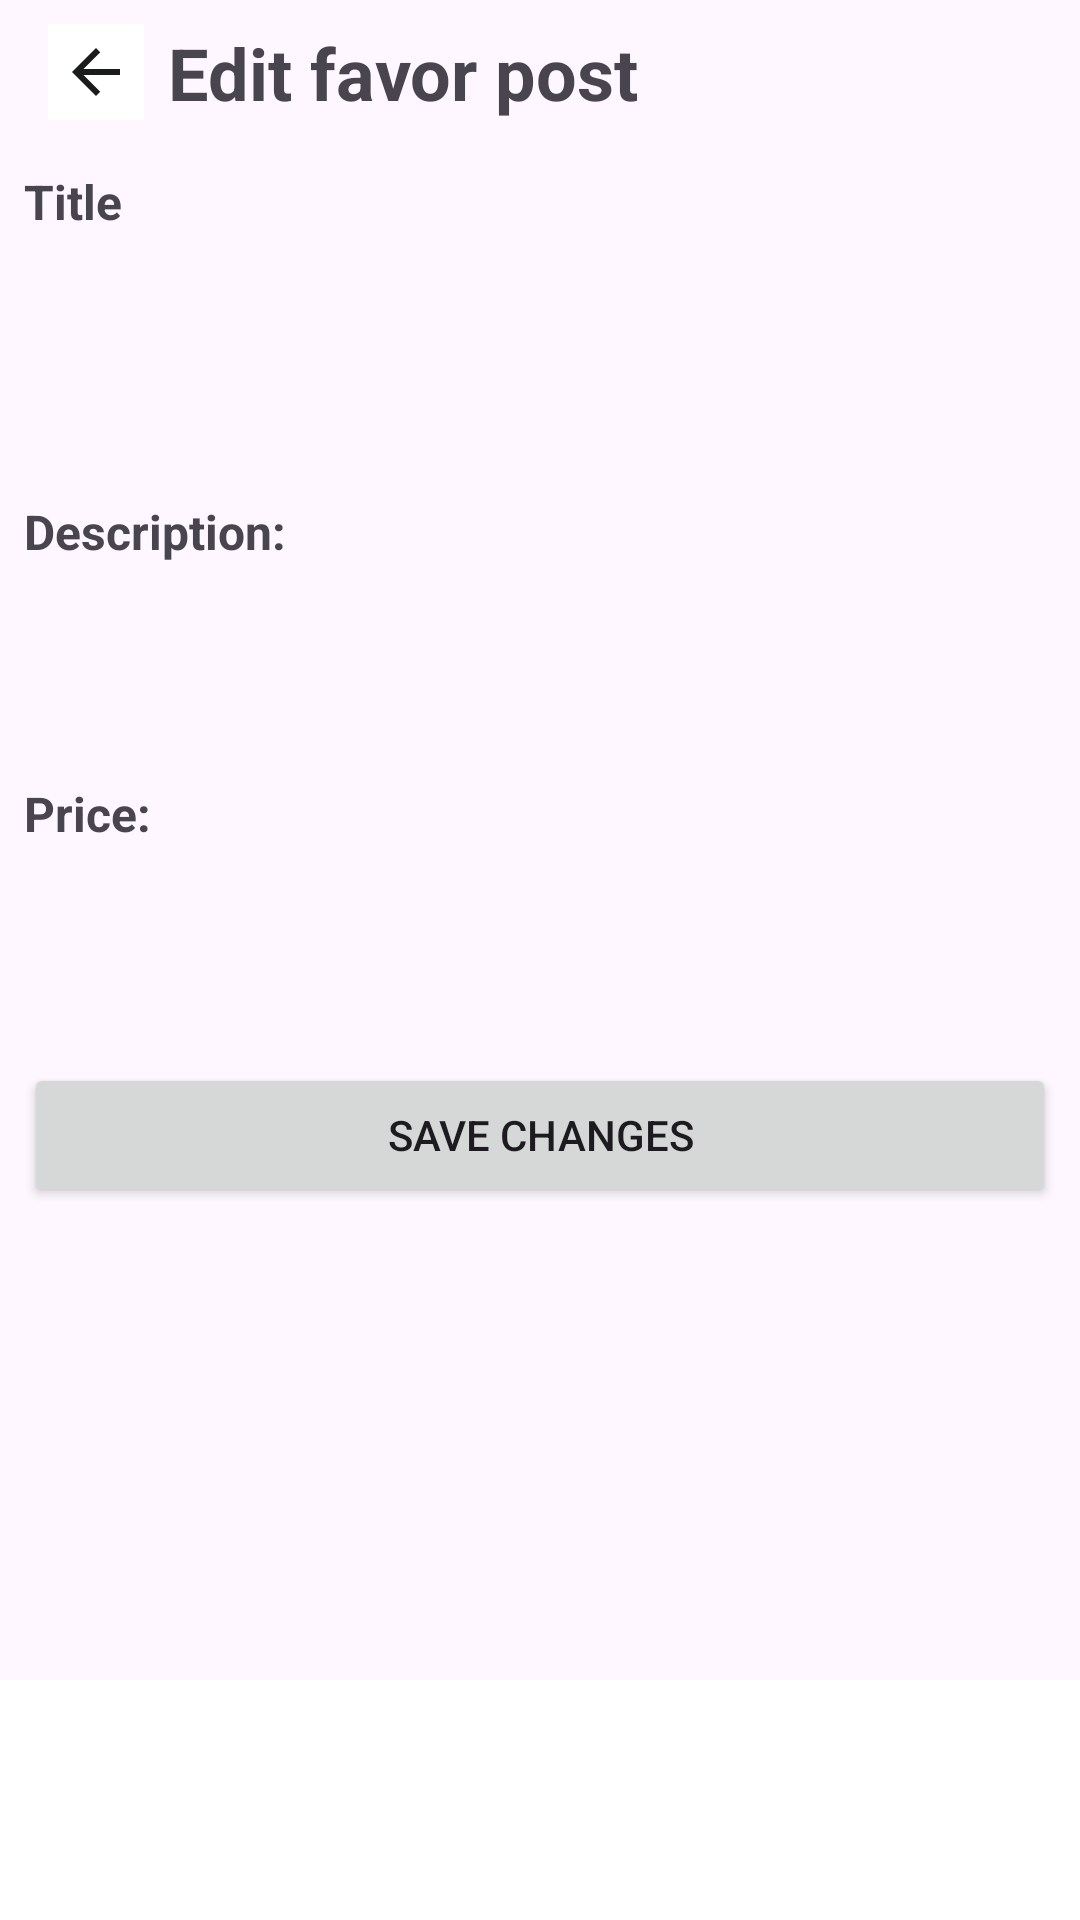

Named icons in this screenshot (1080 x 1920) and their bounding boxes, [x1, y1, x2, y2]:
arrow left: [72, 48, 120, 96]
